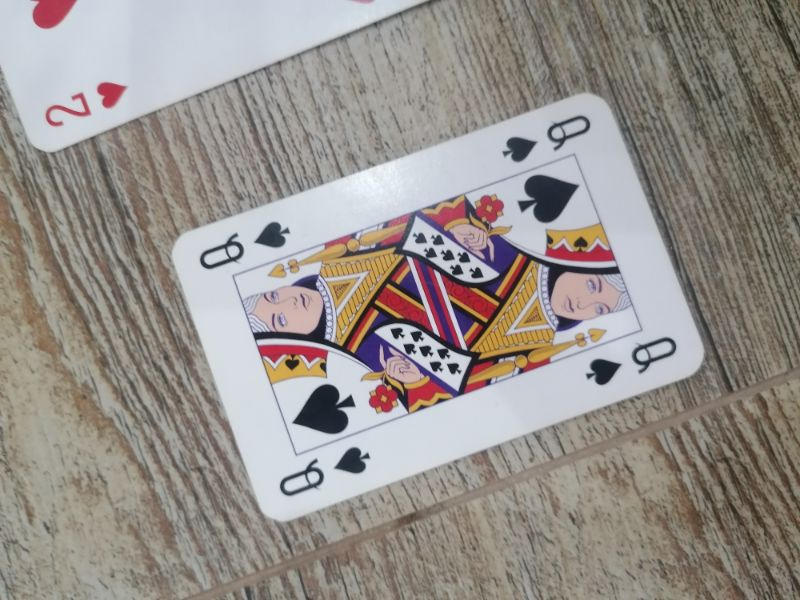Qs: (499, 111, 593, 167), (195, 219, 294, 272), (278, 445, 374, 499), (583, 334, 678, 388)
